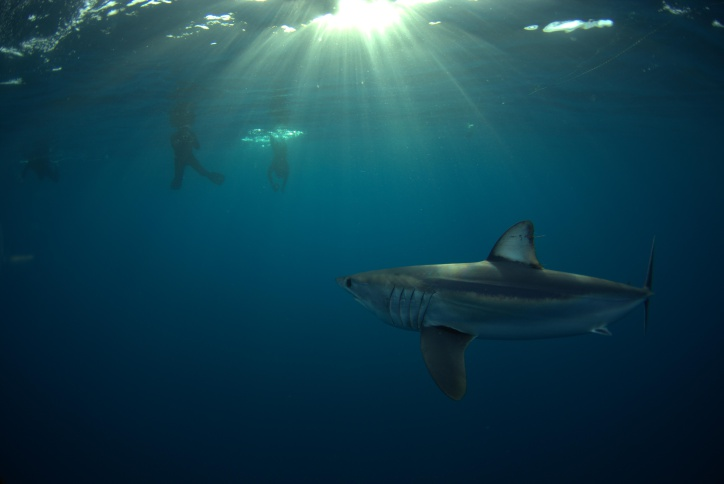Mako: (324, 216, 684, 398)
